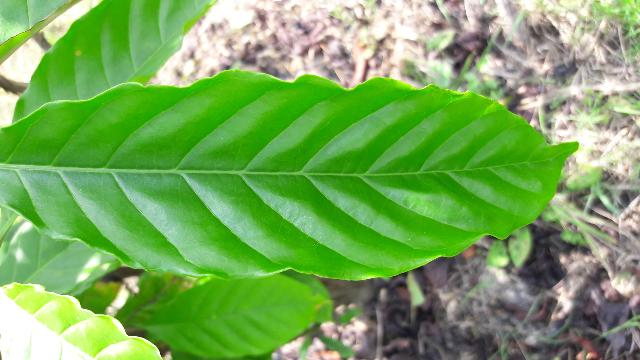healthy: (2, 76, 569, 277)
